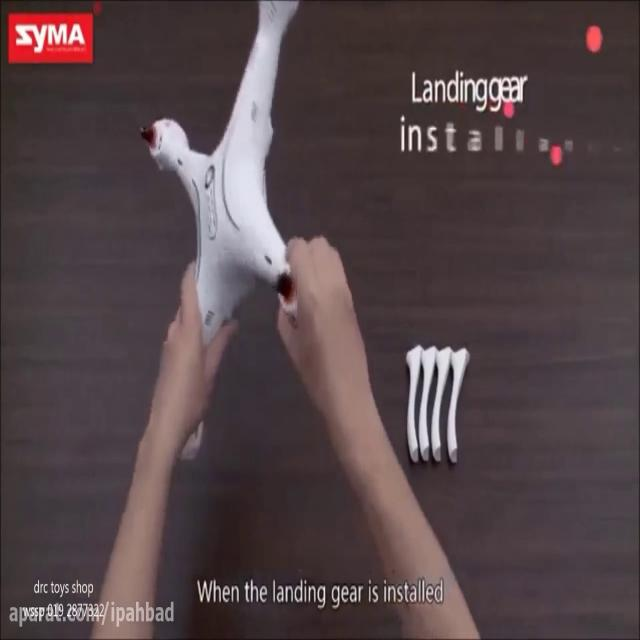drone: (138, 0, 301, 319)
